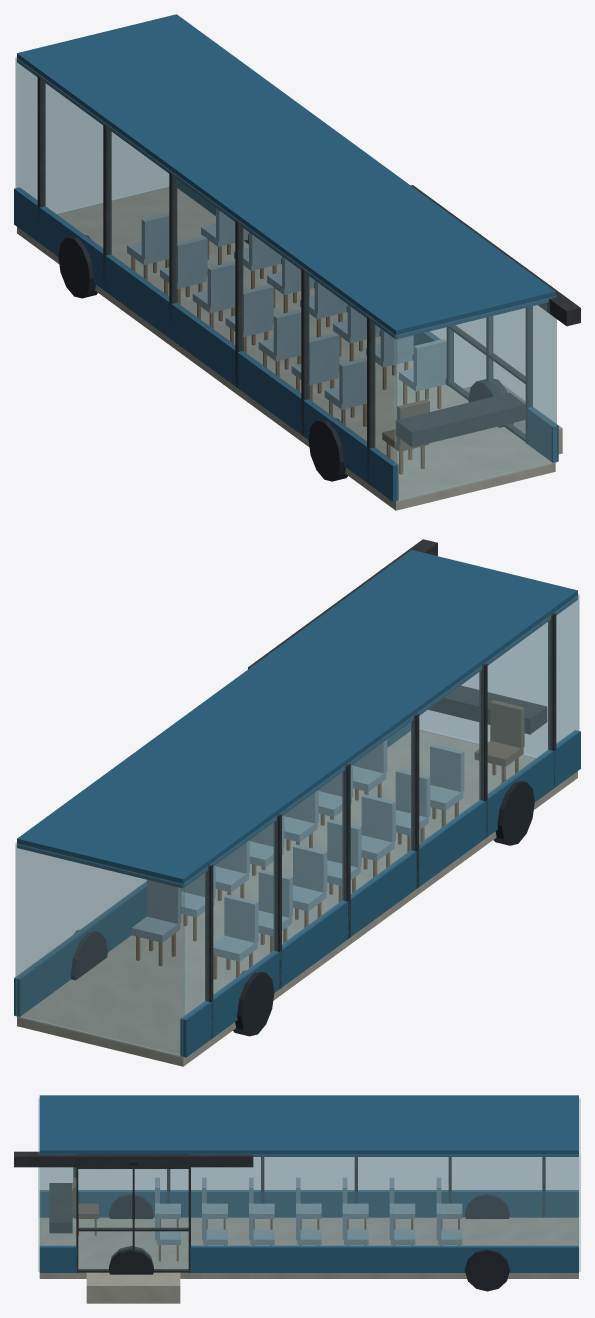
Rendered from 20_City_Bus_LOD1.glb.
The picture shows the model from 3 angles, top to bottom: view 1: azimuth 30°, elevation 25°; view 2: azimuth 150°, elevation 25°; view 3: azimuth 270°, elevation 25°; orthographic projection. The views are drawn at different scales.
Parts seen in each view (by area): view 1: Vehicle roof, Side windows, End glazing, Vehicle floor, Vehicle side panel, End glazing.001, Driver dashboard, Door glass, Entry side glass, Door glass.001, Wheel, Wheel.001 (+21 smaller); view 2: Vehicle roof, Side windows, End glazing.001, Vehicle floor, Vehicle side panel, Entry side glass.001, End glazing, Entry side lower.001, Driver dashboard, Wheel, Wheel.001, Chair back.004 (+19 smaller); view 3: Entry side glass.001, Vehicle roof, Vehicle floor, Side windows, Entry side lower.001, Vehicle side panel, Door glass.001, Door glass, Door header, Boarding step, Entry side glass, Wheel.003 (+24 smaller).
Part boxes in pixels (x1=…): Vehicle roof: x1=17, y1=14, x2=555, y2=339; Side windows: x1=15, y1=58, x2=396, y2=465; End glazing: x1=395, y1=296, x2=556, y2=501; Vehicle floor: x1=17, y1=187, x2=555, y2=510; Vehicle side panel: x1=14, y1=187, x2=398, y2=501; End glazing.001: x1=16, y1=56, x2=168, y2=213; Driver dashboard: x1=396, y1=392, x2=526, y2=447; Door glass: x1=489, y1=308, x2=525, y2=434; Entry side glass: x1=531, y1=295, x2=556, y2=425; Door glass.001: x1=450, y1=318, x2=485, y2=393; Wheel: x1=308, y1=418, x2=347, y2=481; Wheel.001: x1=58, y1=235, x2=97, y2=298; Vehicle roof: x1=17, y1=550, x2=577, y2=888; Side windows: x1=182, y1=595, x2=579, y2=1019; End glazing.001: x1=16, y1=844, x2=184, y2=1057; Vehicle floor: x1=17, y1=729, x2=577, y2=1066; Vehicle side panel: x1=180, y1=730, x2=580, y2=1057; Entry side glass.001: x1=15, y1=842, x2=146, y2=978; End glazing: x1=419, y1=594, x2=578, y2=757; Entry side lower.001: x1=14, y1=881, x2=146, y2=1016; Driver dashboard: x1=428, y1=685, x2=547, y2=734; Wheel: x1=493, y1=779, x2=534, y2=845; Wheel.001: x1=233, y1=970, x2=274, y2=1036; Chair back.004: x1=361, y1=794, x2=395, y2=842; Entry side glass.001: x1=190, y1=1154, x2=578, y2=1246; Vehicle roof: x1=39, y1=1095, x2=578, y2=1156; Vehicle floor: x1=39, y1=1217, x2=578, y2=1278; Side windows: x1=41, y1=1157, x2=577, y2=1190; Entry side lower.001: x1=190, y1=1245, x2=578, y2=1272; Vehicle side panel: x1=39, y1=1190, x2=578, y2=1217; Door glass.001: x1=135, y1=1169, x2=188, y2=1269; Door glass: x1=79, y1=1169, x2=131, y2=1269; Door header: x1=14, y1=1151, x2=253, y2=1167; Boarding step: x1=86, y1=1272, x2=180, y2=1303; Entry side glass: x1=40, y1=1154, x2=76, y2=1246; Wheel.003: x1=465, y1=1249, x2=509, y2=1291.
Bounding box in the file's own units: 3.62 × 3.28 × 12.09.
8 materials, 4 textured.
